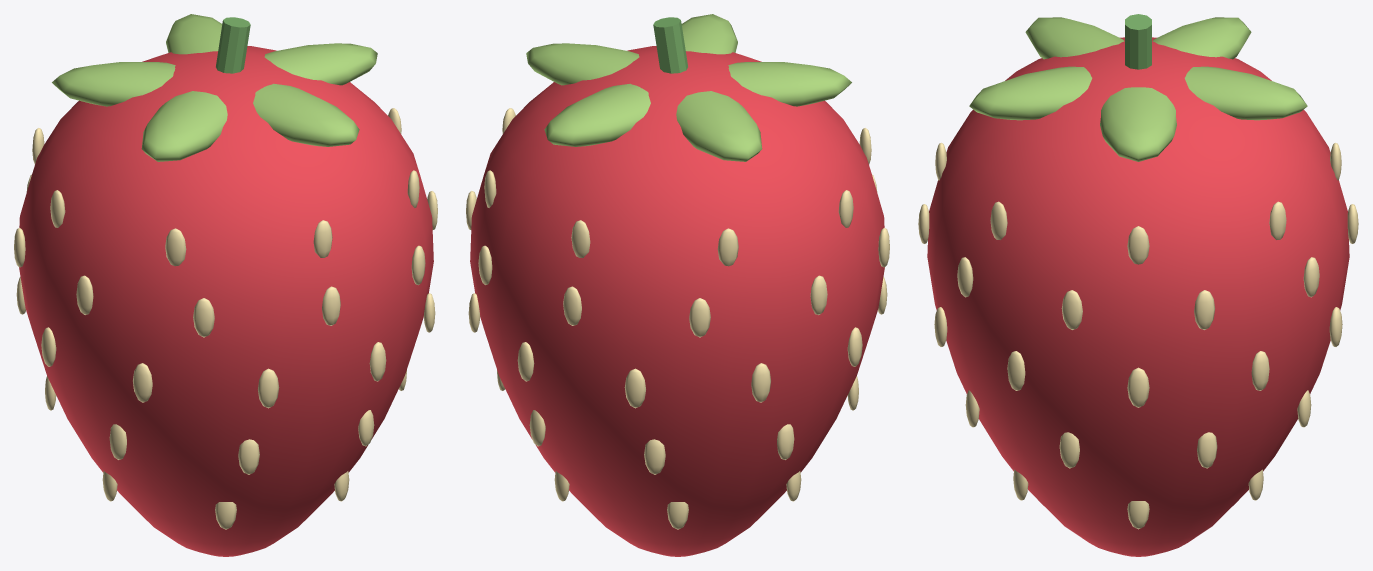
The model's file is strawberry-fruit.glb.
3 renders of one model, left to right at view 1: azimuth 30°, elevation 25°; view 2: azimuth 150°, elevation 25°; view 3: azimuth 270°, elevation 25°, orthographic.
Parts seen in each view (by area): view 1: strawberry-fruit; view 2: strawberry-fruit; view 3: strawberry-fruit.
Boxes of the visible parts, x1=… form: strawberry-fruit: x1=14, y1=14, x2=437, y2=556; strawberry-fruit: x1=466, y1=14, x2=889, y2=556; strawberry-fruit: x1=918, y1=14, x2=1358, y2=556.
Bounding box in the file's own units: 1.34 × 1.86 × 1.38.
